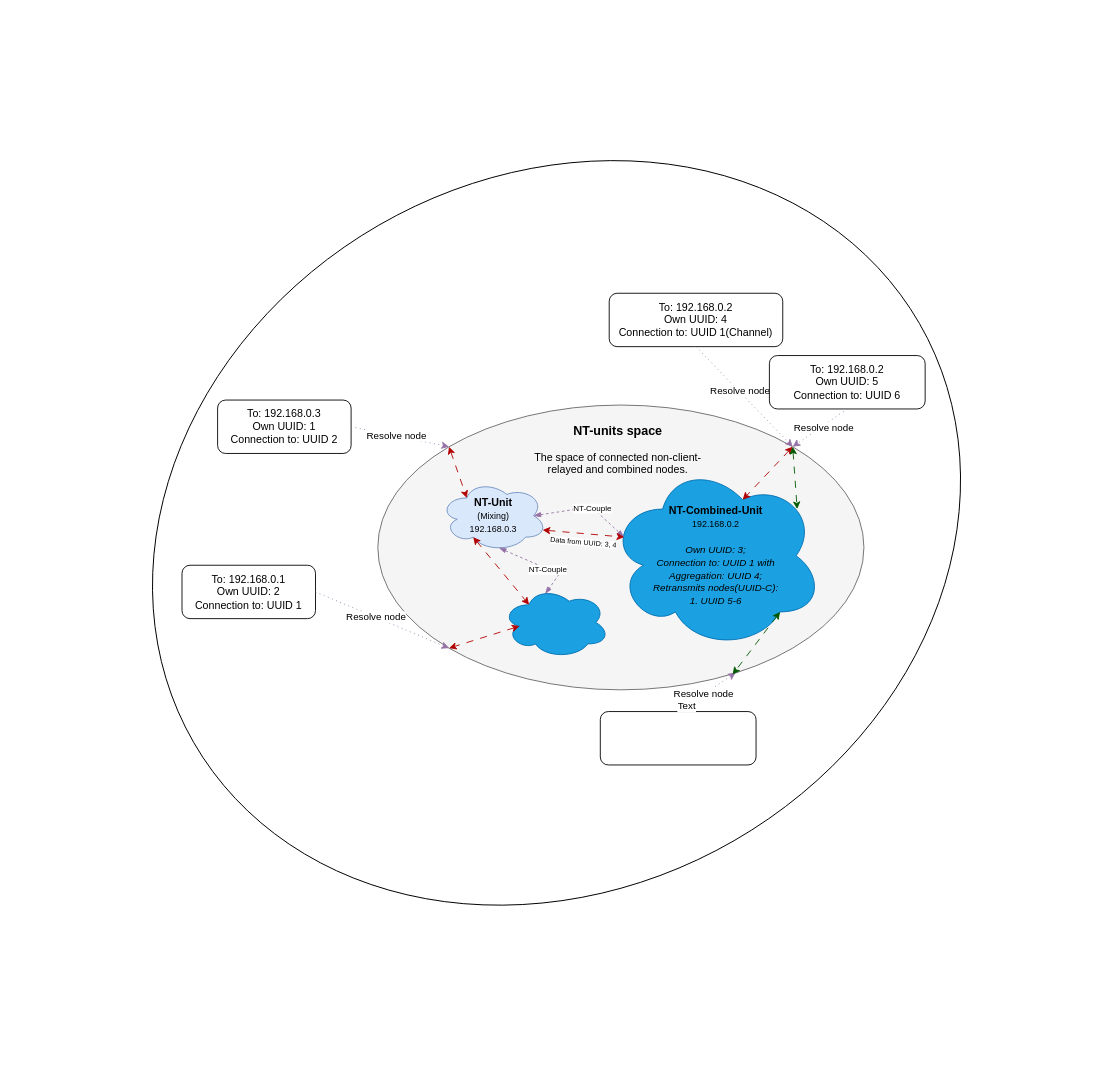
This 1113x1066 diagram has some shape labels left out. The box of each missing label's shape, as (x1, y1, x2, y2) in pixels:
NT-Unit 192.168.0.1: (502, 586, 609, 658)
To: 192.168.0.2 Own UUID: 6 Connection to: UUID 5: (599, 711, 756, 765)
